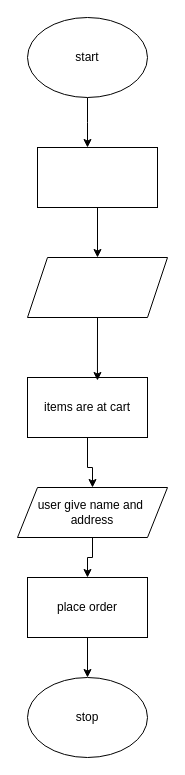
This 185x775 diagram has some shape labels left out. Here are the shapes that lost their labels. From the top down, the centre of each, then its label:
(97,177): provide list of menu
(97,287): user will select the food
